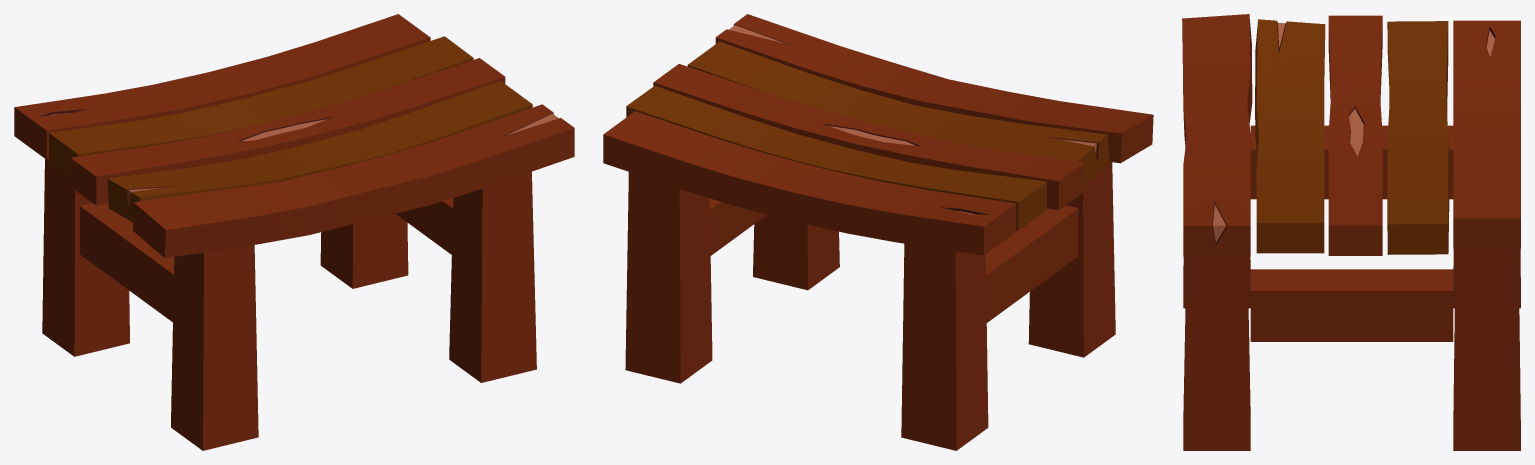
The model's file is Table_1.fbx.
3 views of the same model, side by side, from view 1: azimuth 30°, elevation 25°; view 2: azimuth 150°, elevation 25°; view 3: azimuth 270°, elevation 25° (orthographic). The views are drawn at different scales.
Visible parts, largest first — view 1: Poor_Table #1; view 2: Poor_Table #1; view 3: Poor_Table #1.
Part boxes in pixels (bbox=[...]): Poor_Table #1: bbox=[14, 14, 574, 450]; Poor_Table #1: bbox=[603, 14, 1153, 450]; Poor_Table #1: bbox=[1182, 14, 1520, 450].
Size of the model in its own units: 147 by 80.58 by 100.
